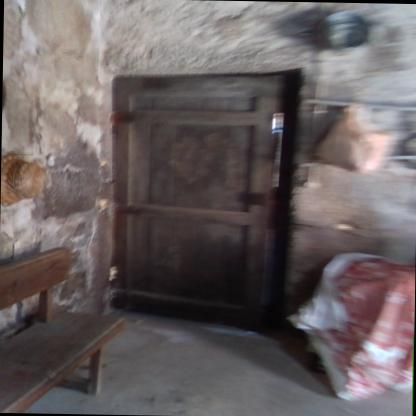closed: (85, 44, 315, 334)
